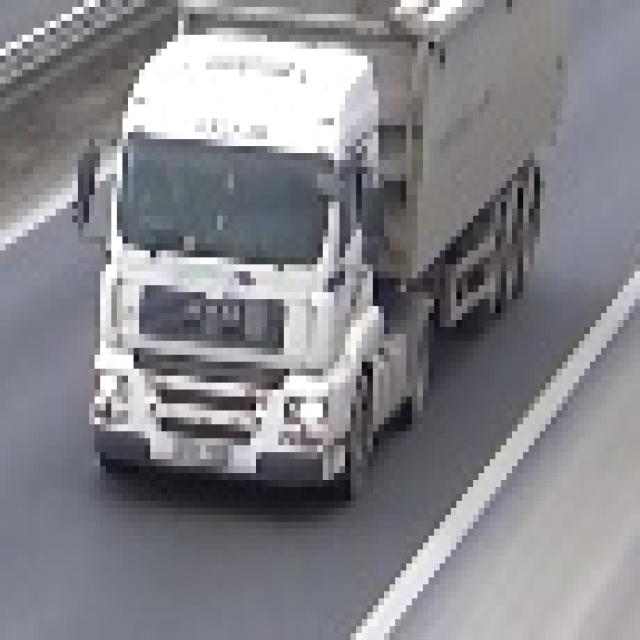TRUCK: (80, 1, 565, 500)
